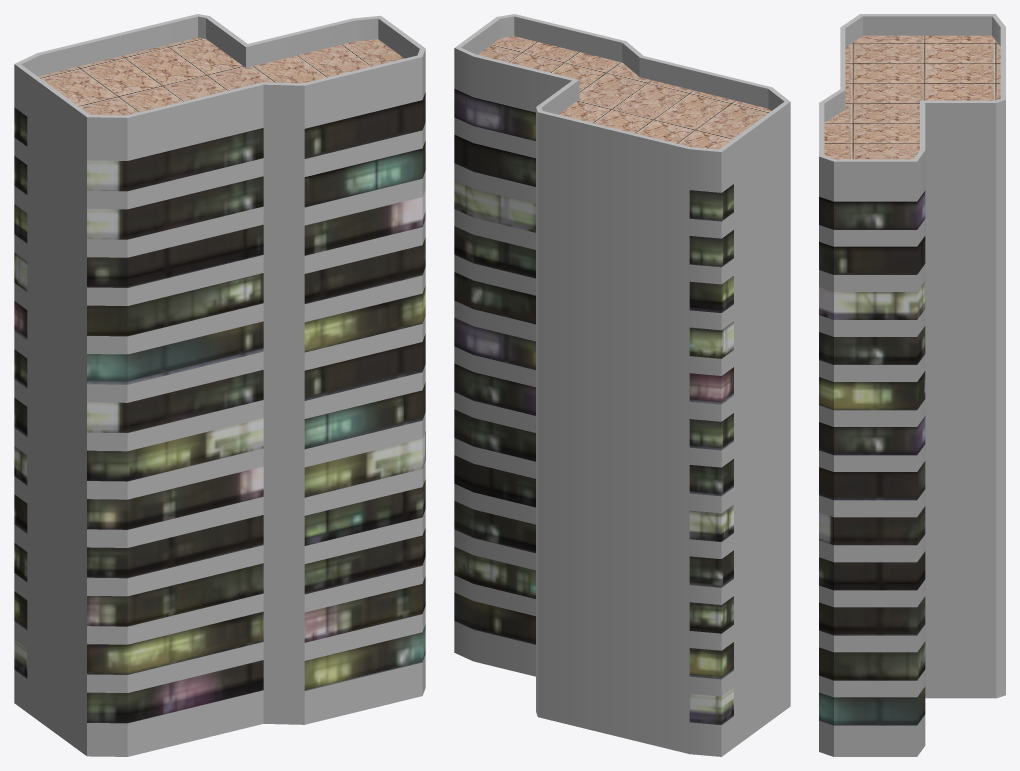
Rendered from hirise_08_12f.fbx.
3 renders of one model, left to right at view 1: azimuth 30°, elevation 25°; view 2: azimuth 150°, elevation 25°; view 3: azimuth 270°, elevation 25°, orthographic. The views are drawn at different scales.
Parts seen in each view (by area): view 1: hirise_08_12f; view 2: hirise_08_12f; view 3: hirise_08_12f.
Part boxes in pixels (x1,y1,x2,y2): hirise_08_12f: [14, 14, 425, 756]; hirise_08_12f: [454, 14, 790, 756]; hirise_08_12f: [819, 14, 1005, 756].
Bounding box in the file's own units: 22.89 × 43.07 × 12.25.
